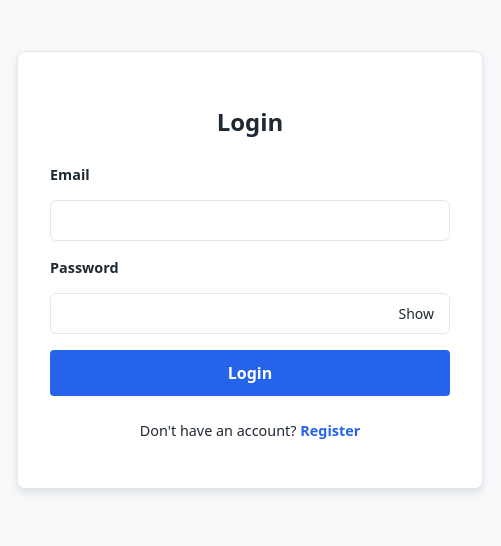
Test: LoginPage Component › Error Handling Tests (Hata Yönetimi Testleri) › Genel login hatası mesajı gösterilmeli
Type "test@test.com" into the field labelled "Email" at {"x": 250, "y": 220}, box [50,200,450,241]
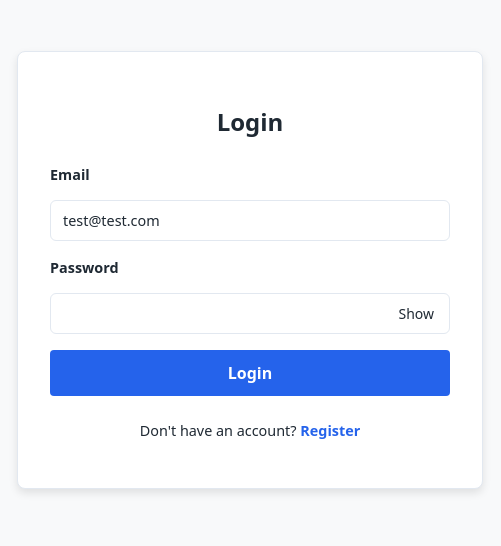
Type "password" into the password field labelled "Password" at {"x": 250, "y": 313}, box [50,293,450,334]
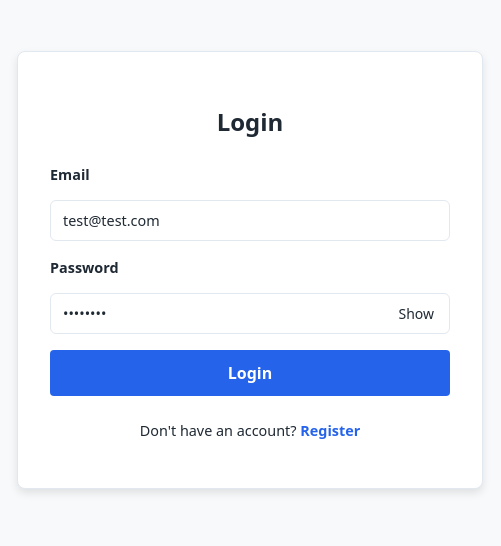
Click the button "Login" at {"x": 250, "y": 373}, box [50,350,450,396]
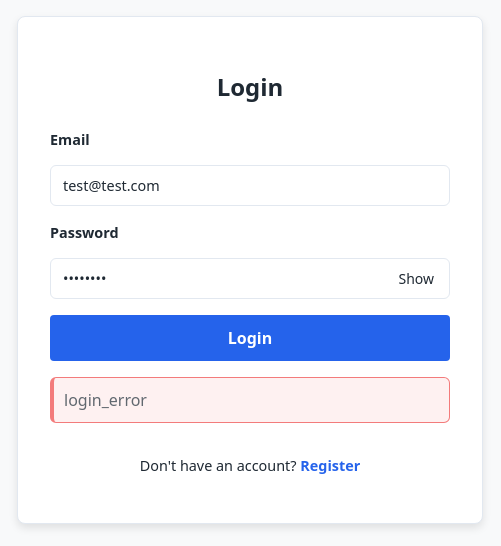
Expected: the text "login_error" is shown, [50,377,450,423]
